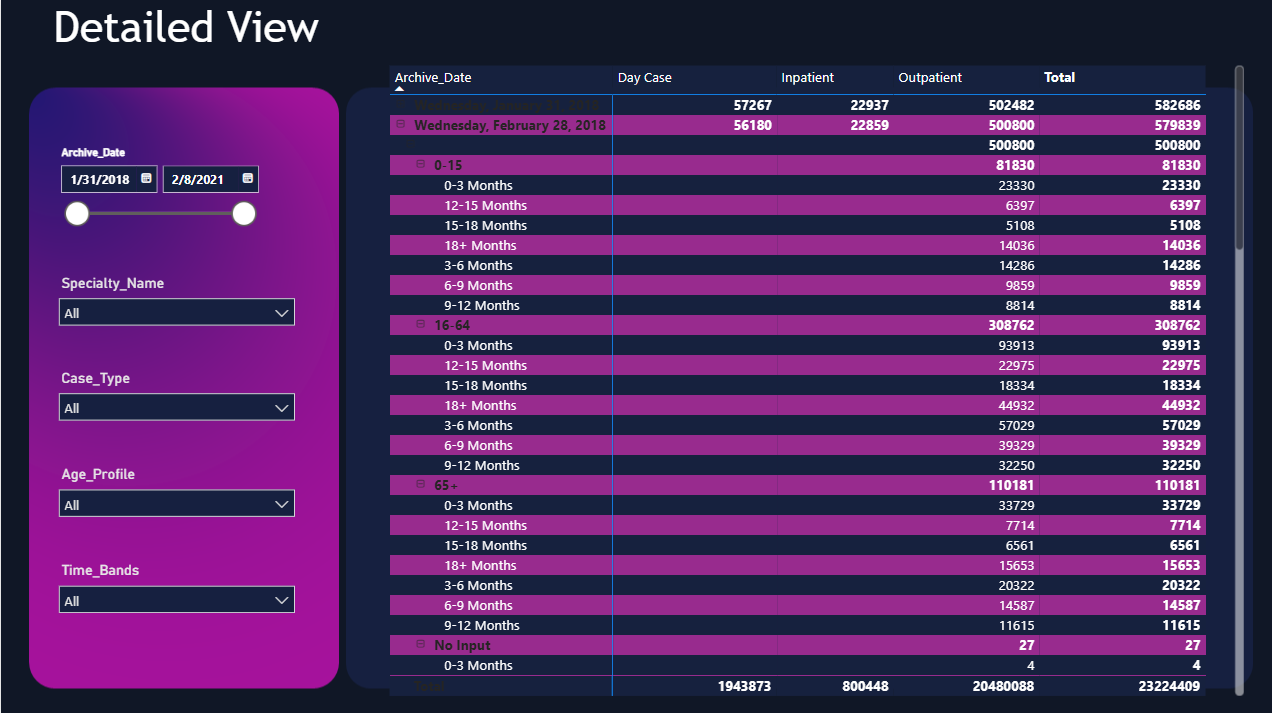

What the dashboard file says about the page in this screenshot:
{"tool":"powerbi","page":{"name":"Detail","canvas":[1280,720],"ordinal":1},"visuals":[{"type":"textbox","box":[48,0,304,80],"z":0},{"type":"pivotTable","fields":{"Rows":["All_Data.Archive_Date","All_Data.Specialty_Name","All_Data.Age_Profile","All_Data.Time_Bands"],"Columns":["All_Data.Case_Type"],"Values":["Sum(All_Data.Total)"]},"box":[384,64,864,640],"z":1000},{"type":"slicer","fields":{"Values":["All_Data.Specialty_Name"]},"box":[48,272,256,64],"z":2000},{"type":"slicer","fields":{"Values":["All_Data.Archive_Date"]},"box":[48,144,224,96],"z":3000},{"type":"slicer","fields":{"Values":["All_Data.Case_Type"]},"box":[48,368,256,64],"z":4000},{"type":"slicer","fields":{"Values":["All_Data.Age_Profile"]},"box":[48,464,256,64],"z":5000},{"type":"slicer","fields":{"Values":["All_Data.Time_Bands"]},"box":[48,560,256,64],"z":6000}]}

Visuals, with their boxes in screenshot pixels (x1, y1, x2, y2), scaled from the page's 1280x720 canvas onto the 1272x713 screenshot:
textbox: <box>48,0,350,79</box>
pivotTable - All_Data.Archive_Date x All_Data.Specialty_Name: <box>382,63,1240,697</box>
slicer - All_Data.Specialty_Name: <box>48,269,302,333</box>
slicer - All_Data.Archive_Date: <box>48,143,270,238</box>
slicer - All_Data.Case_Type: <box>48,364,302,428</box>
slicer - All_Data.Age_Profile: <box>48,459,302,523</box>
slicer - All_Data.Time_Bands: <box>48,555,302,618</box>
